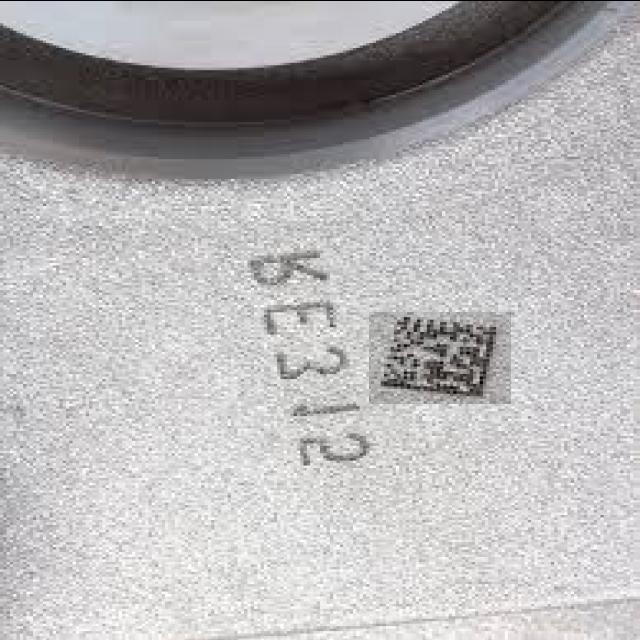DataMatrix: (369, 311, 512, 403)
